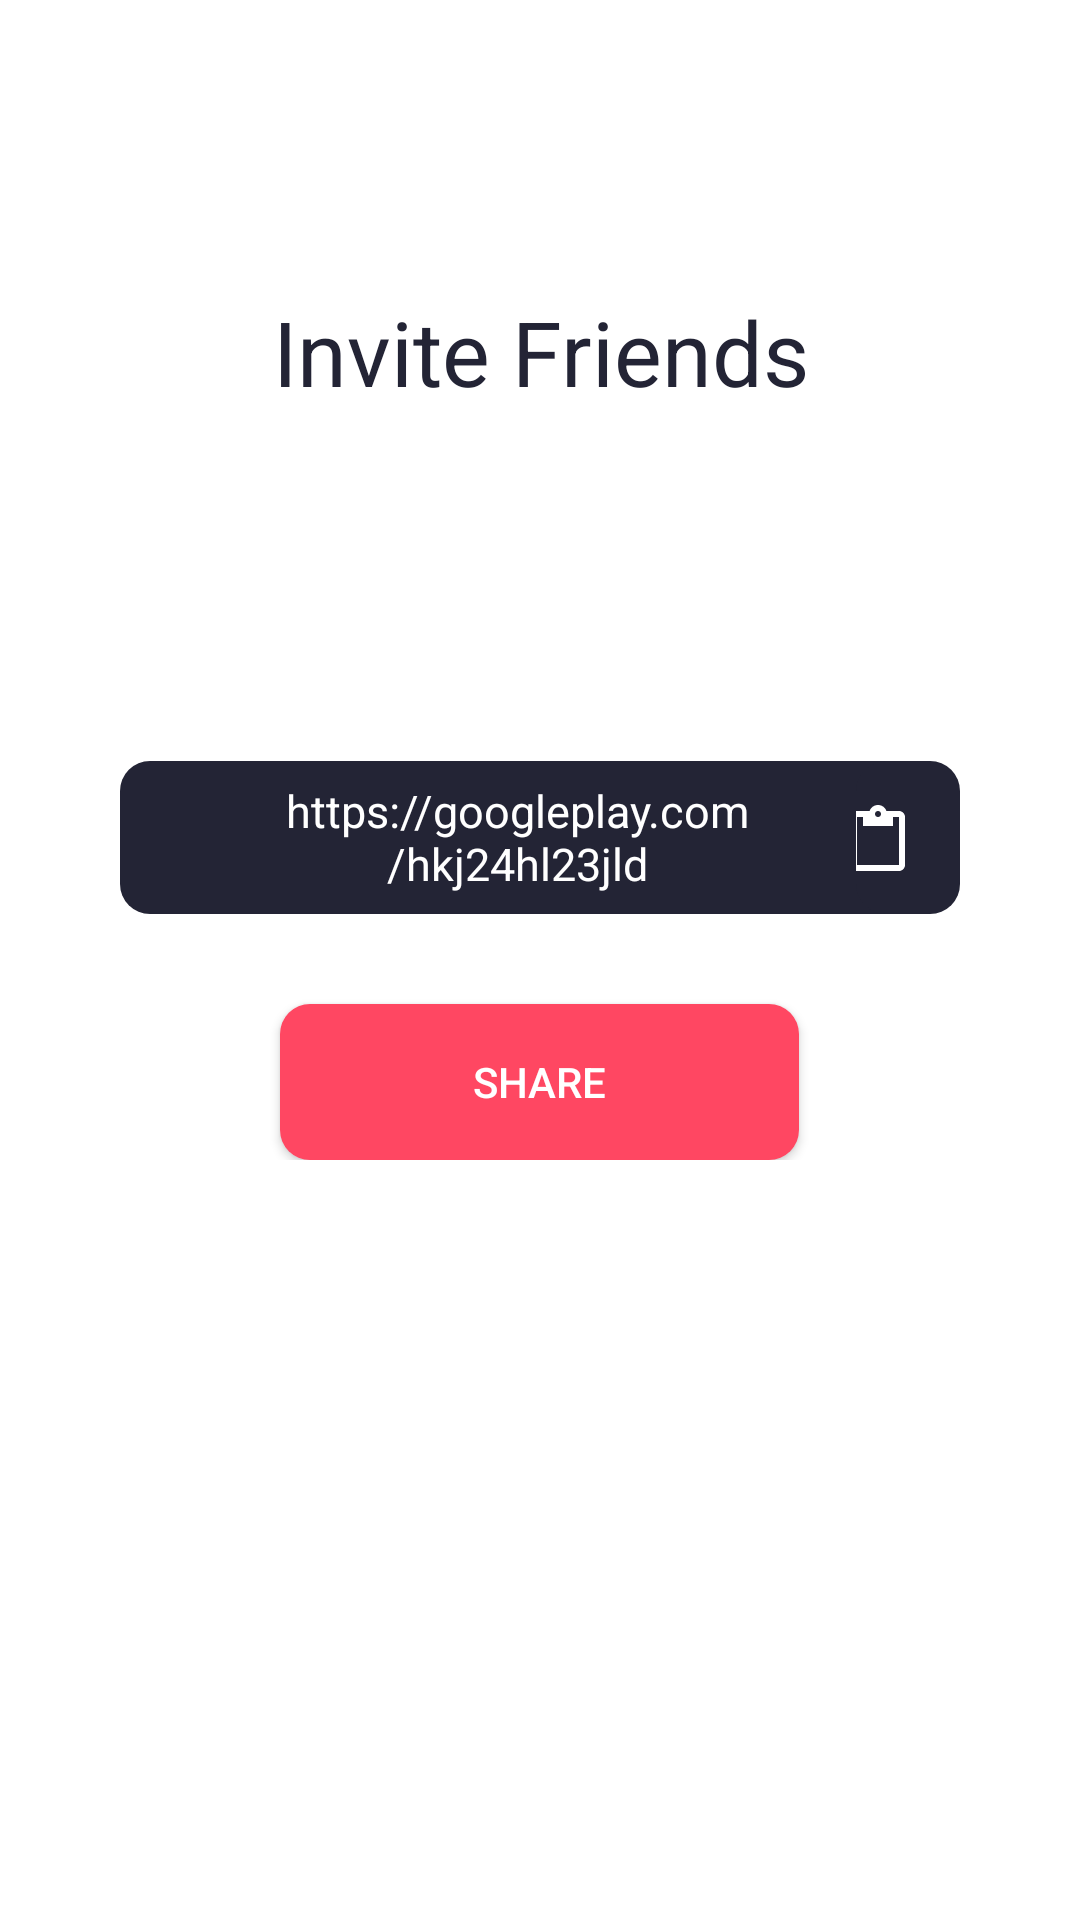

Locate icon controls on the screen. Image size 1080 x 1920, boxes as {"x1": x1, "y1": y1, "x2": x2, "y2": y2}.
clipboard: {"x1": 856, "y1": 761, "x2": 960, "y2": 914}
